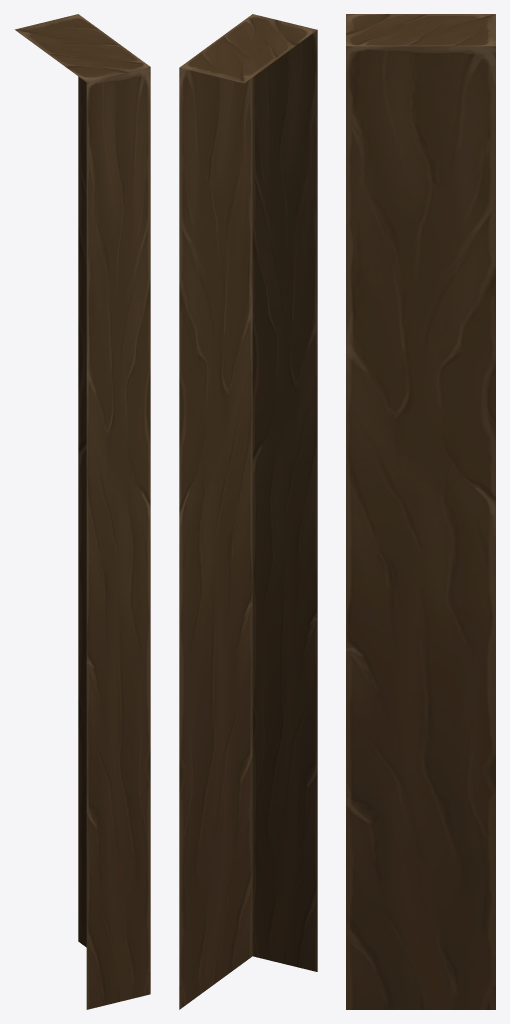
Rendered from Pillar_1_3.FBX.
3 views of the same model, side by side, from view 1: azimuth 30°, elevation 25°; view 2: azimuth 150°, elevation 25°; view 3: azimuth 270°, elevation 25° (orthographic). The views are drawn at different scales.
Parts seen in each view (by area): view 1: Pillar_1_3; view 2: Pillar_1_3; view 3: Pillar_1_3.
Boxes of the visible parts, x1=… form: Pillar_1_3: x1=15, y1=14, x2=150, y2=1009; Pillar_1_3: x1=179, y1=14, x2=317, y2=1009; Pillar_1_3: x1=346, y1=14, x2=495, y2=1009.
Size of the model in its own units: 220 by 3050 by 430.
